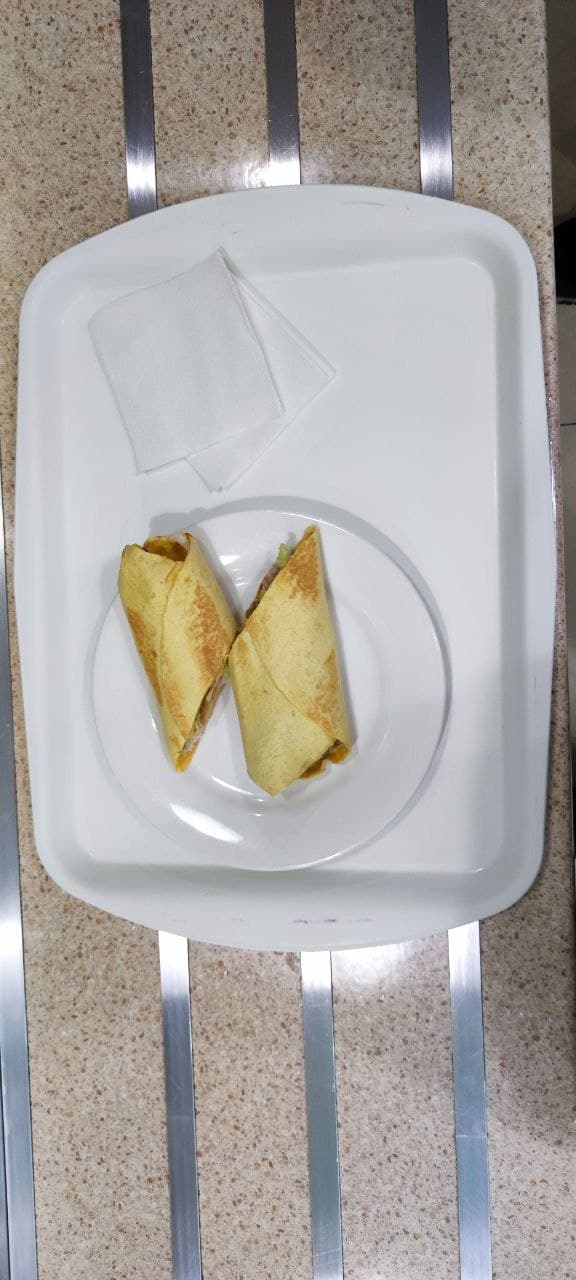Кесадилья с курицей: (116, 525, 353, 791)
Поднос: (14, 188, 553, 951)
Салфетки: (88, 260, 317, 486)
Тарелка: (94, 508, 448, 871)
